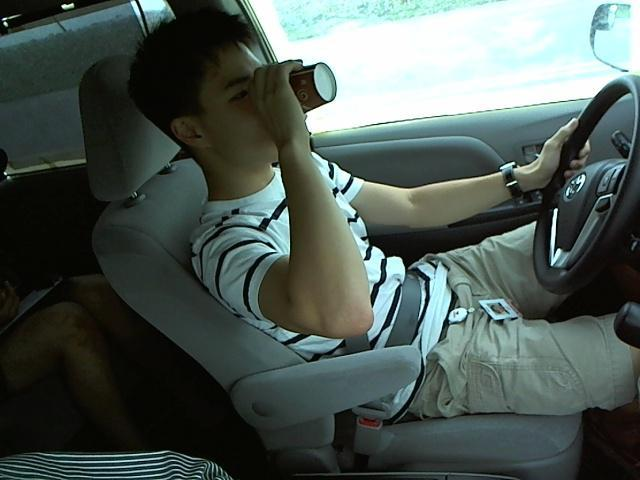Drinking: (171, 37, 313, 154)
